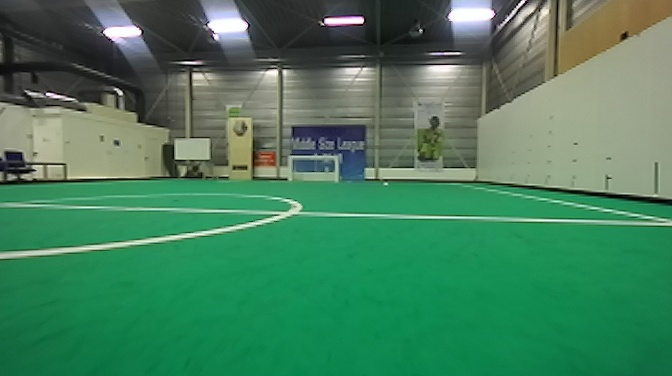goalpost: (328, 149, 341, 182), (285, 153, 297, 185)
